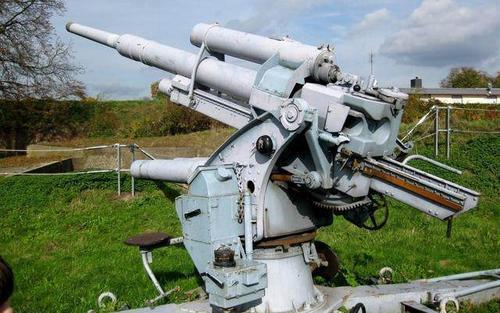MIL_SPG: (66, 23, 478, 311)
